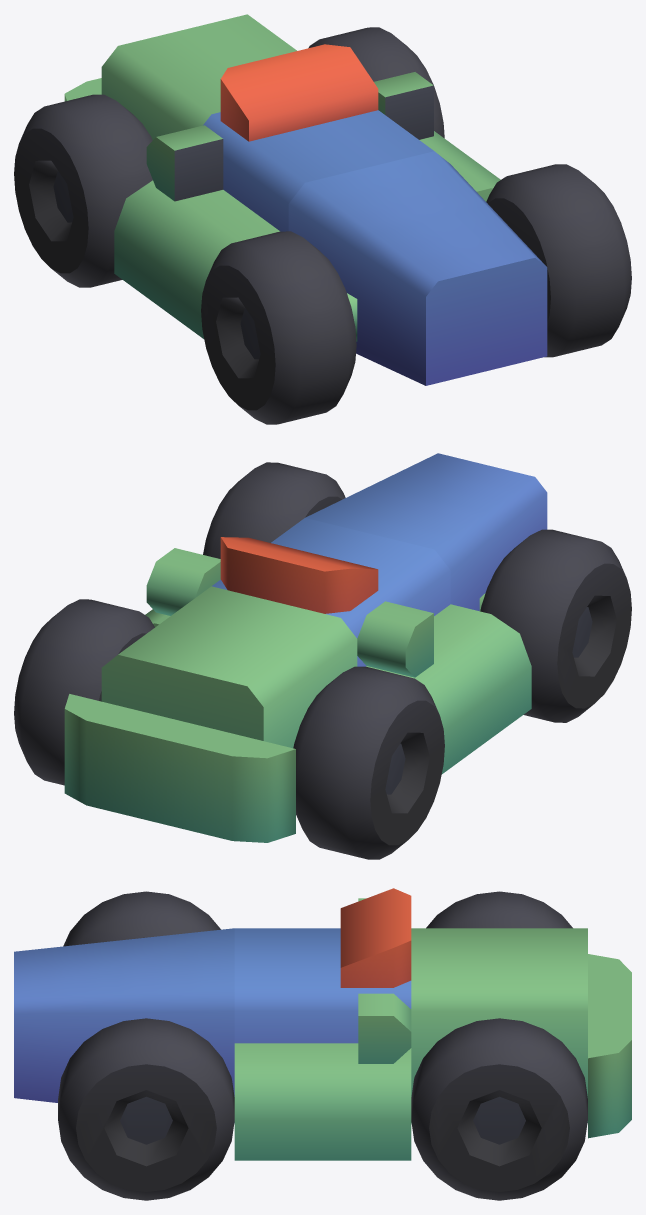
Rendered from vehicle-vintage-racer..glb.
3 views of the same model, one above another, from view 1: azimuth 30°, elevation 25°; view 2: azimuth 150°, elevation 25°; view 3: azimuth 270°, elevation 25° (orthographic). The views are drawn at different scales.
Visible parts, largest first — view 1: vehicle-vintage-racer, wheel-bl, wheel-fl, wheel-br, wheel-fr; view 2: vehicle-vintage-racer, wheel-fl, wheel-bl, wheel-fr, wheel-br; view 3: vehicle-vintage-racer, wheel-br, wheel-fr, wheel-bl, wheel-fl.
Boxes of the visible parts, x1,y1,x2,y2 form: vehicle-vintage-racer: (64,14,547,385); wheel-bl: (201,231,356,424); wheel-fl: (14,94,152,287); wheel-br: (486,164,631,357); wheel-fr: (308,27,444,138); vehicle-vintage-racer: (64,453,547,842); wheel-fl: (293,666,444,859); wheel-bl: (480,529,631,722); wheel-fr: (14,599,154,785); wheel-br: (203,462,345,558); vehicle-vintage-racer: (14,888,631,1160); wheel-br: (58,1018,234,1200); wheel-fr: (411,1018,587,1200); wheel-bl: (63,891,220,946); wheel-fl: (426,891,572,928).
Bounding box in the file's own units: 0.55 × 0.325 × 0.875.
Materials: 1 (1 with a texture image).
